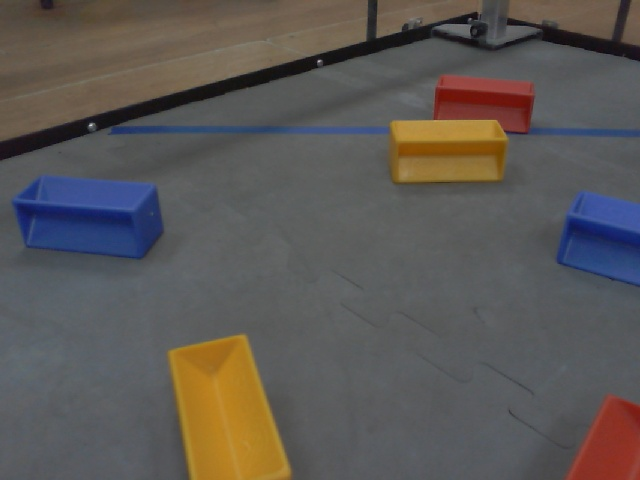BlueSample: (12, 169, 168, 264), (555, 185, 640, 288)
RedSample: (563, 389, 639, 480), (431, 73, 535, 138)
YellowSample: (163, 331, 293, 480), (383, 116, 511, 190)
